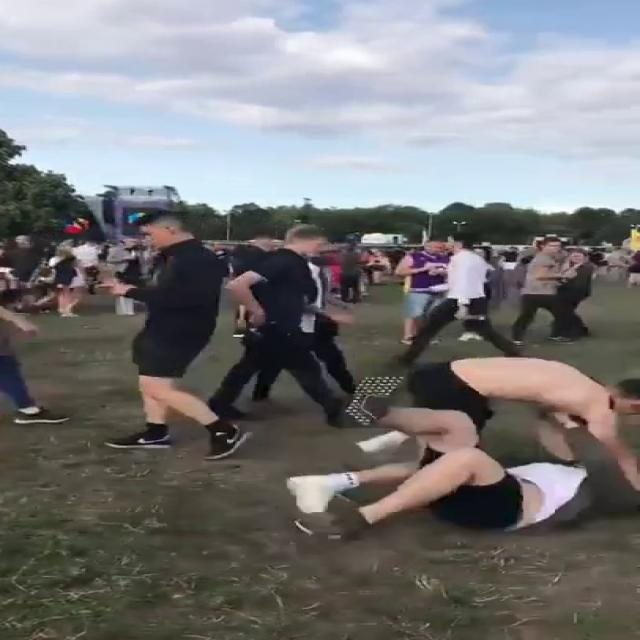Violence: (287, 358, 640, 544)
